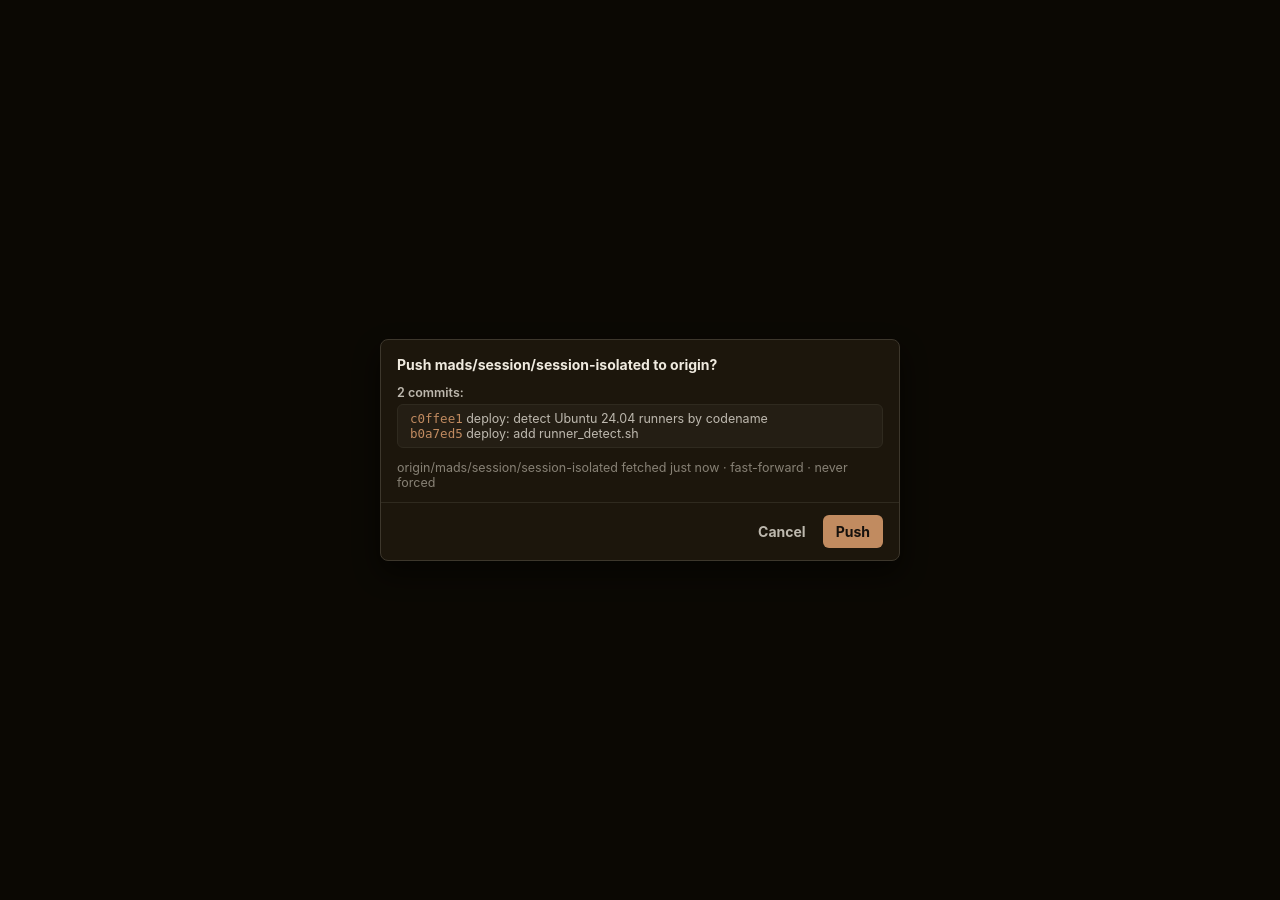
Test case: PushDialog (D5, mockup §3) › fetches again when the branch moved since the confirmation, and says so
Later steps or results of the test are not shown.
Step 1. Click the button "Push" → (853, 532), box 823,515 -> 883,548
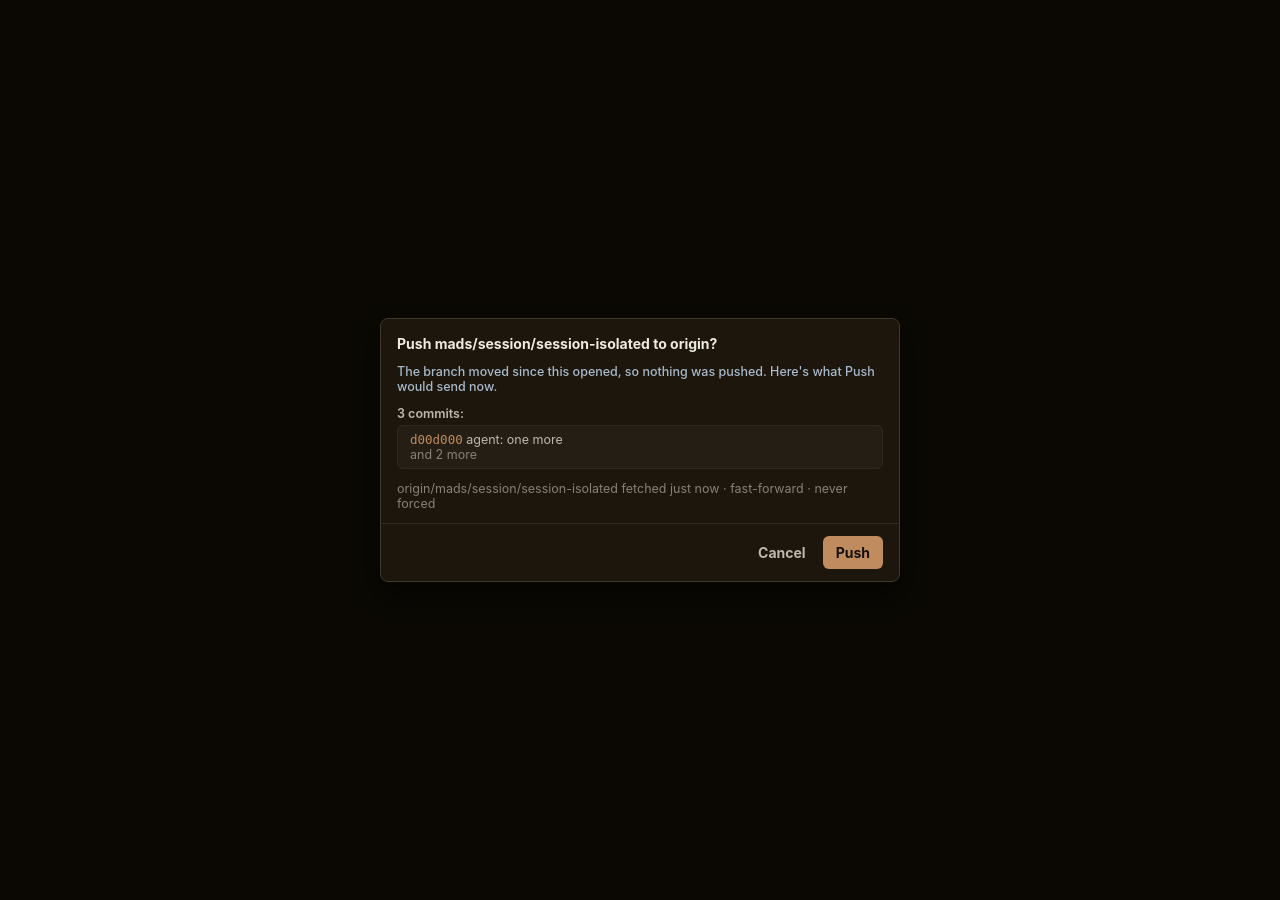
Check: the text "The branch moved since this opened" is shown, box 397,364 -> 875,394
Check: the list item "agent: one more" is shown, box 466,432 -> 563,447
